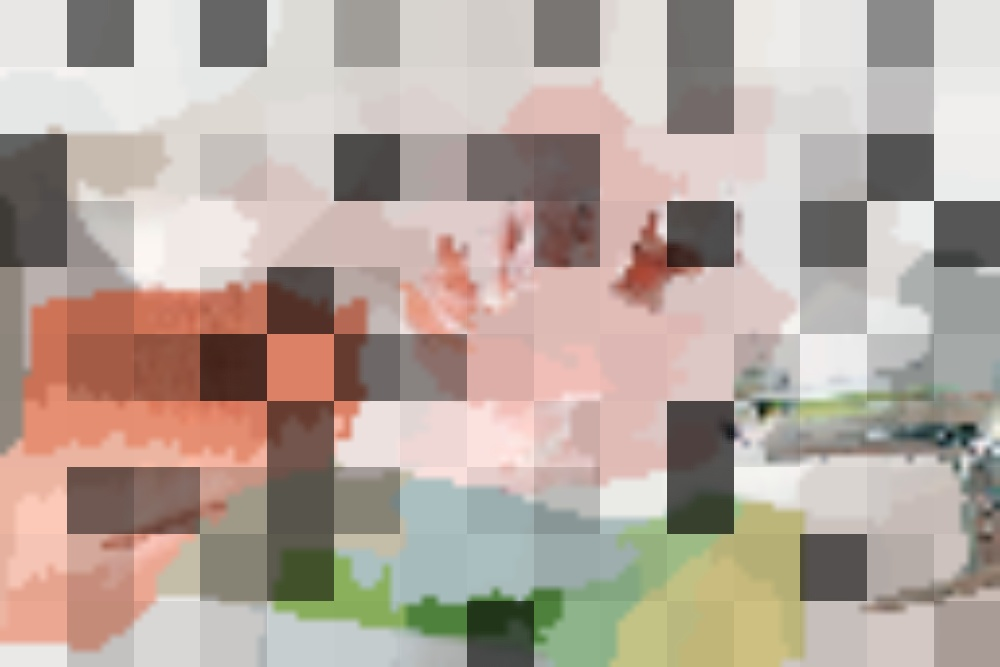washing hand: (339, 14, 999, 645)
